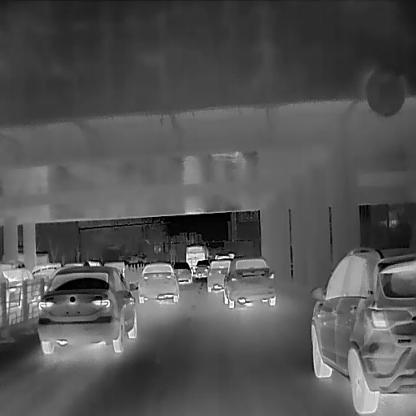car: (310, 245, 415, 413), (36, 264, 138, 353), (221, 254, 276, 307), (137, 261, 179, 302), (2, 268, 45, 306), (204, 256, 232, 292), (103, 258, 133, 291), (183, 242, 209, 273), (31, 261, 64, 285), (16, 248, 49, 265), (172, 260, 191, 282), (194, 258, 209, 277)
